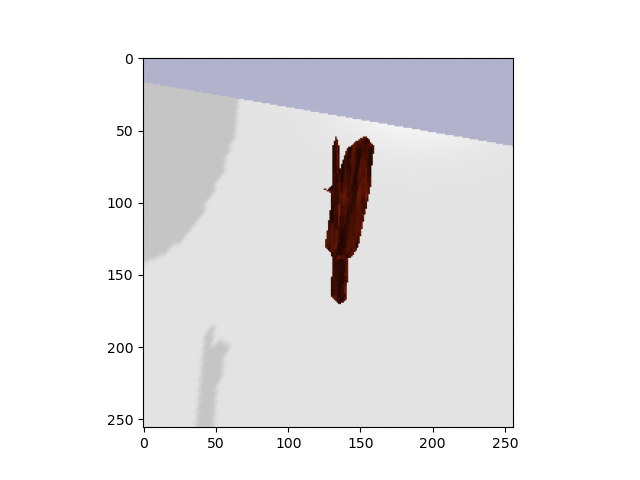v249b387_107: (314, 132, 388, 313)
